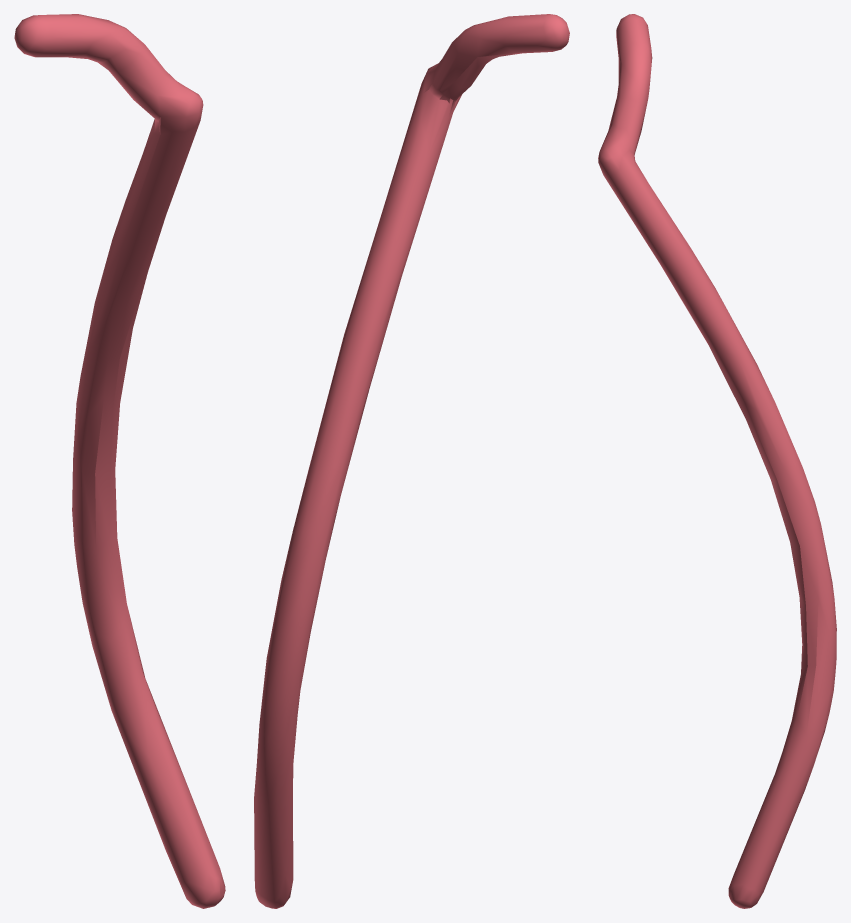
Rendered from fma22921_fj2238.glb.
3 views of the same model, side by side, from view 1: azimuth 30°, elevation 25°; view 2: azimuth 150°, elevation 25°; view 3: azimuth 270°, elevation 25° (orthographic). The views are drawn at different scales.
Parts seen in each view (by area): view 1: FMA22921_FJ2238; view 2: FMA22921_FJ2238; view 3: FMA22921_FJ2238.
Part boxes in pixels (<box>): FMA22921_FJ2238: <box>14,14,225,908</box>; FMA22921_FJ2238: <box>254,14,569,908</box>; FMA22921_FJ2238: <box>598,14,836,908</box>.
Size of the model in its own units: 0.0107 by 0.0371 by 0.0101.
